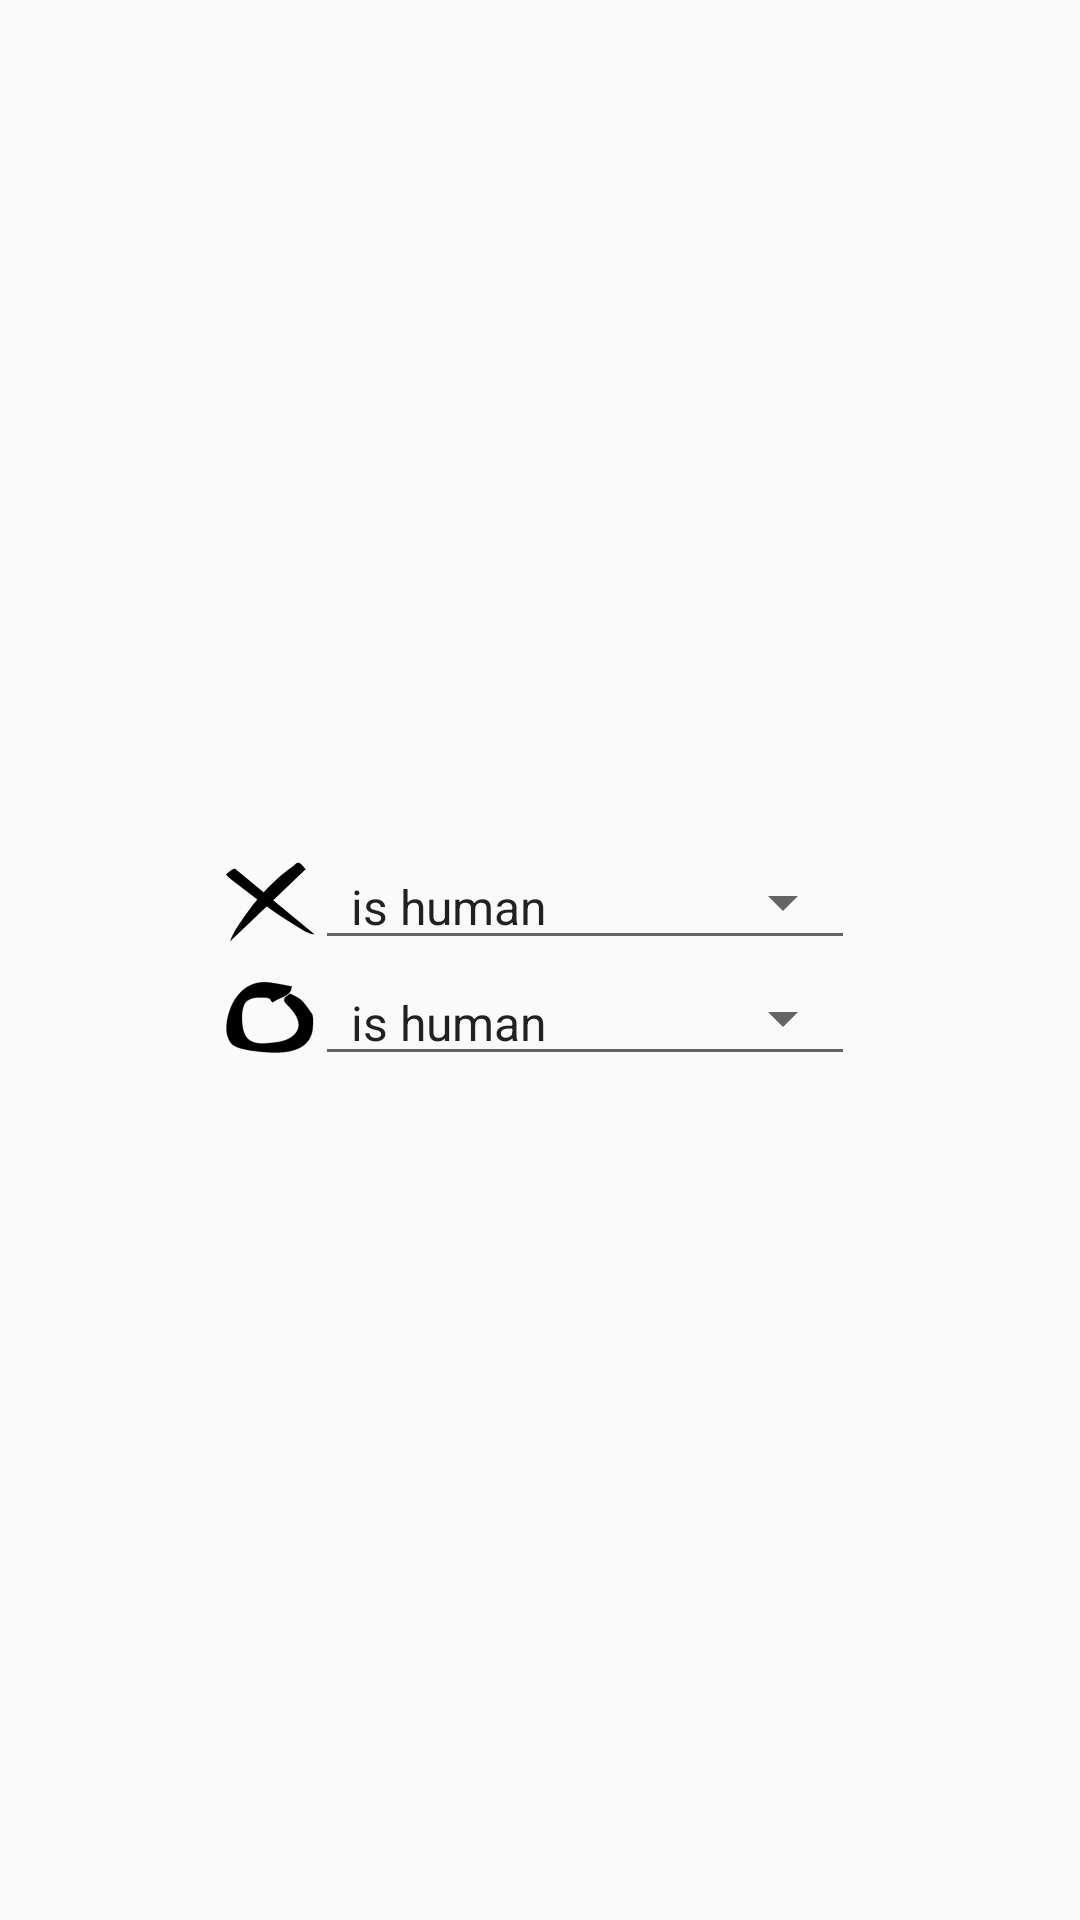

Icons on this 1080 x 1920 Android screen, each with its box as box=[x1, y1, x2, y2]:
tic tac toe mark: box=[226, 862, 315, 941], box=[226, 982, 314, 1053]
